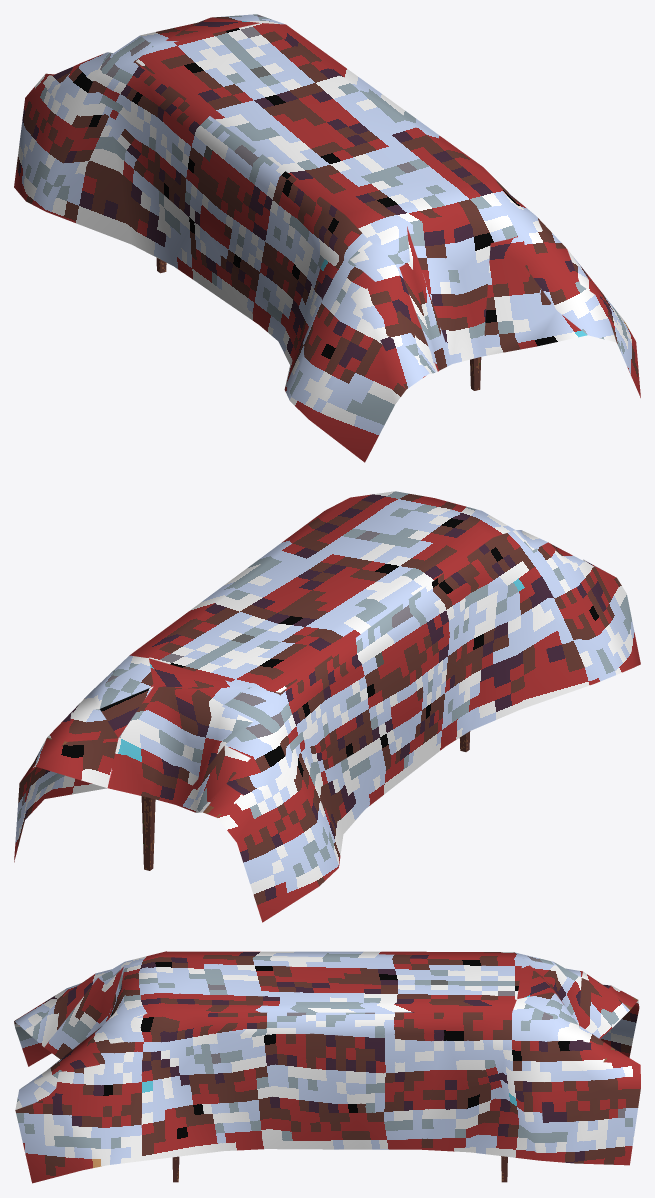
File: Table.fbx
The picture shows the model from 3 angles, top to bottom: view 1: azimuth 30°, elevation 25°; view 2: azimuth 150°, elevation 25°; view 3: azimuth 270°, elevation 25°; orthographic projection. The views are drawn at different scales.
Visible parts, largest first — view 1: Plane; view 2: Plane, Cube; view 3: Plane, Cube.
Part boxes in pixels (x1,y1,x2,y2): Plane: (14,14,640,462); Plane: (14,491,640,922); Cube: (141,731,470,870); Plane: (14,951,640,1183); Cube: (172,1156,507,1182).
Size of the model in its own units: 5.84 by 11.5 by 3.62.
Materials: 3 (3 with a texture image).
